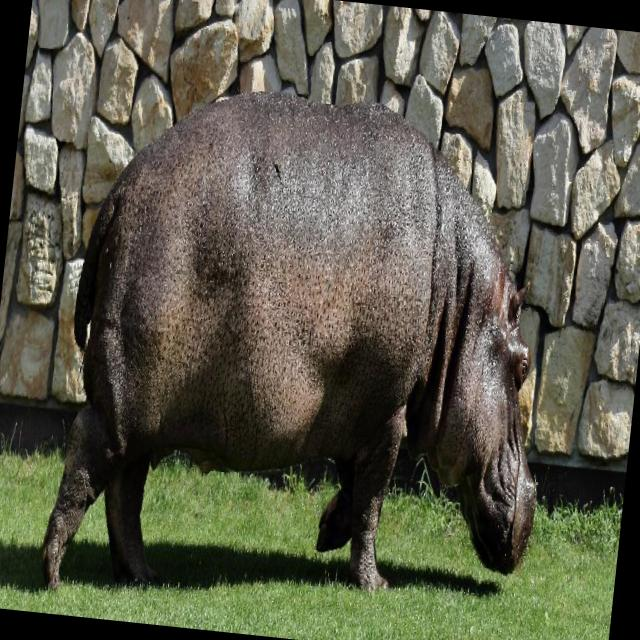hippo: (77, 9, 606, 602)
